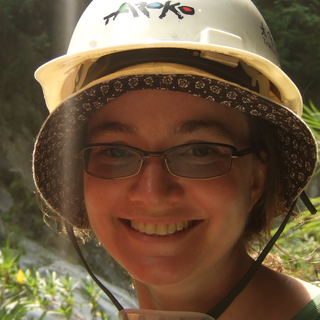eye: (173, 138, 223, 163), (98, 140, 136, 165)
